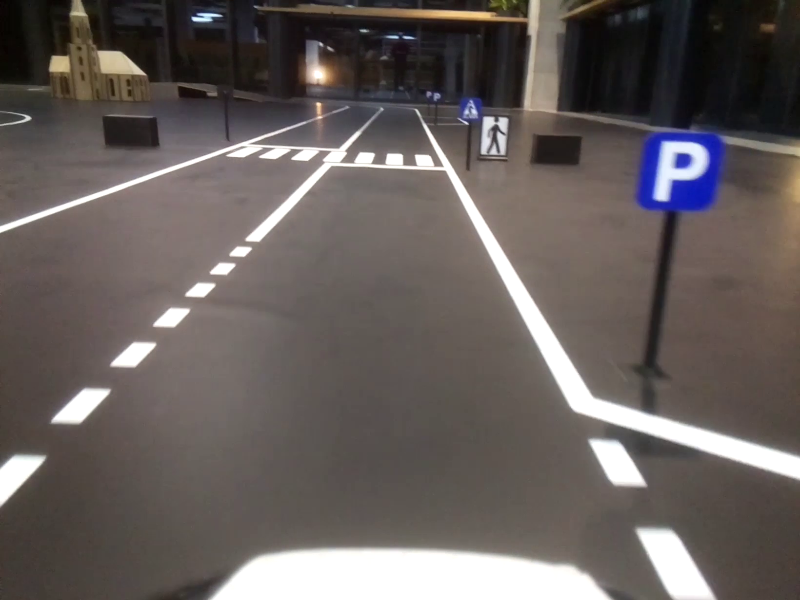park: (633, 132, 712, 209)
